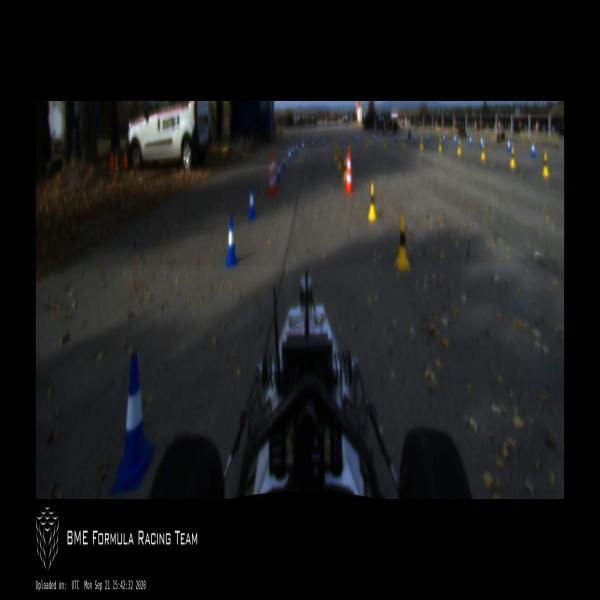blue_cone: (112, 352, 154, 493), (224, 216, 238, 266), (247, 186, 256, 218), (531, 141, 536, 158), (507, 137, 511, 153), (442, 131, 446, 144), (282, 153, 285, 170), (291, 142, 294, 157), (288, 148, 291, 162), (454, 132, 457, 146), (356, 133, 359, 146), (469, 133, 472, 146), (374, 132, 377, 145), (295, 142, 298, 154), (342, 133, 345, 145), (480, 136, 483, 148), (414, 132, 417, 144), (322, 137, 325, 147), (394, 133, 397, 142), (312, 137, 314, 149), (302, 140, 304, 151), (426, 132, 428, 143)
large_orange_cone: (346, 150, 353, 193), (268, 153, 274, 196), (272, 152, 276, 193)
yellow_cone: (395, 216, 410, 272), (368, 183, 376, 221), (542, 150, 550, 179), (509, 144, 516, 170), (343, 158, 347, 182), (457, 136, 462, 154), (338, 150, 342, 170), (482, 144, 485, 160), (335, 146, 338, 161), (439, 138, 442, 152), (420, 136, 423, 150), (365, 137, 368, 149), (403, 135, 405, 148), (384, 136, 386, 147)
